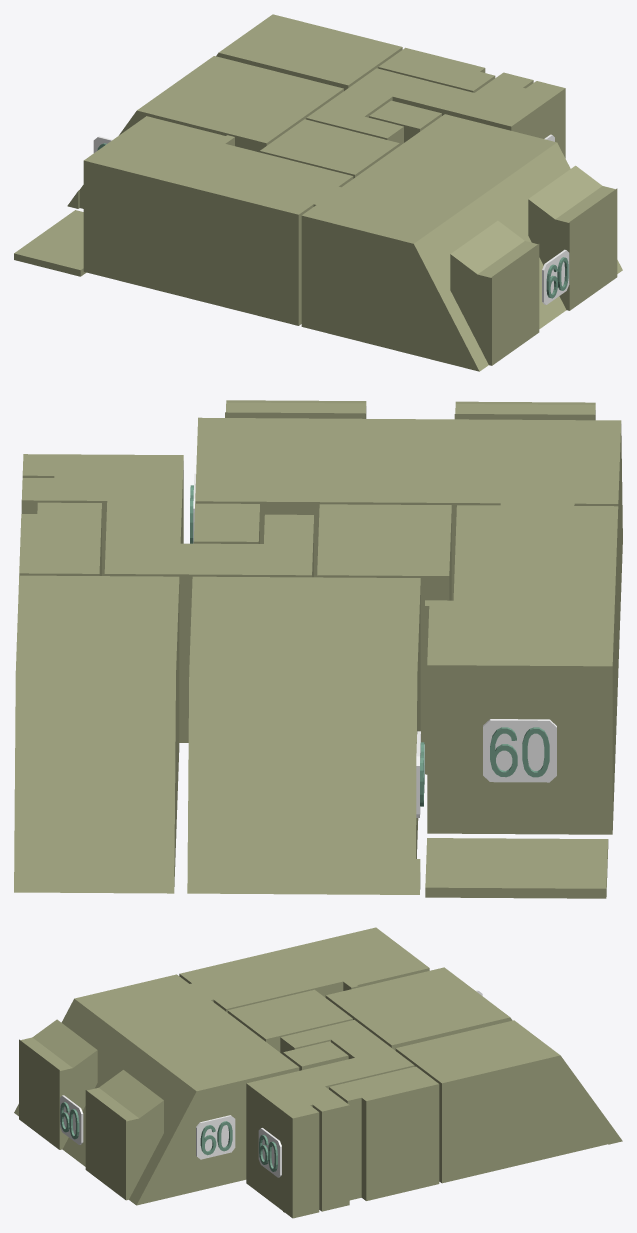
3 renders of one model, top to bottom at view 1: azimuth 30°, elevation 25°; view 2: azimuth 150°, elevation 25°; view 3: azimuth 270°, elevation 25°, orthographic. The views are drawn at different scales.
Visible parts, largest first — view 1: g_6, g_5, g_1, g_4, g_2, g_3, g_8, g_0, g_7, g_20; view 2: g_1, g_5, g_2, g_6, g_4, g_3, g_8, g_0, g_17, g_7, g_15, g_16; view 3: g_6, g_2, g_4, g_0, g_5, g_1, g_3, g_7, g_14, g_11, g_20.
Boxes of the visible parts, left/top/right/bottom form: g_6: left=301, top=114, right=622, bottom=371; g_5: left=83, top=116, right=353, bottom=325; g_1: left=67, top=56, right=343, bottom=208; g_4: left=306, top=68, right=565, bottom=158; g_2: left=216, top=14, right=402, bottom=90; g_3: left=260, top=119, right=399, bottom=178; g_8: left=14, top=210, right=86, bottom=276; g_0: left=378, top=47, right=495, bottom=92; g_7: left=369, top=100, right=441, bottom=142; g_20: left=542, top=249, right=569, bottom=304; g_1: left=187, top=576, right=420, bottom=894; g_5: left=425, top=504, right=618, bottom=834; g_2: left=14, top=575, right=179, bottom=893; g_6: left=195, top=400, right=622, bottom=667; g_4: left=21, top=454, right=313, bottom=742; g_3: left=317, top=504, right=451, bottom=743; g_8: left=425, top=838, right=608, bottom=898; g_0: left=19, top=502, right=101, bottom=575; g_17: left=483, top=719, right=556, bottom=782; g_7: left=193, top=503, right=259, bottom=543; g_15: left=490, top=727, right=517, bottom=777; g_16: left=522, top=727, right=549, bottom=777; g_6: left=14, top=974, right=299, bottom=1205; g_2: left=395, top=1020, right=622, bottom=1183; g_4: left=246, top=1020, right=414, bottom=1218; g_0: left=329, top=1066, right=439, bottom=1200; g_5: left=179, top=927, right=429, bottom=1012; g_1: left=325, top=967, right=512, bottom=1050; g_3: left=227, top=989, right=352, bottom=1052; g_7: left=283, top=1041, right=348, bottom=1070; g_14: left=196, top=1115, right=235, bottom=1159; g_11: left=258, top=1128, right=281, bottom=1177; g_20: left=60, top=1095, right=83, bottom=1144.
Bounding box in the file's own units: 11.21 × 2.71 × 14.04.
